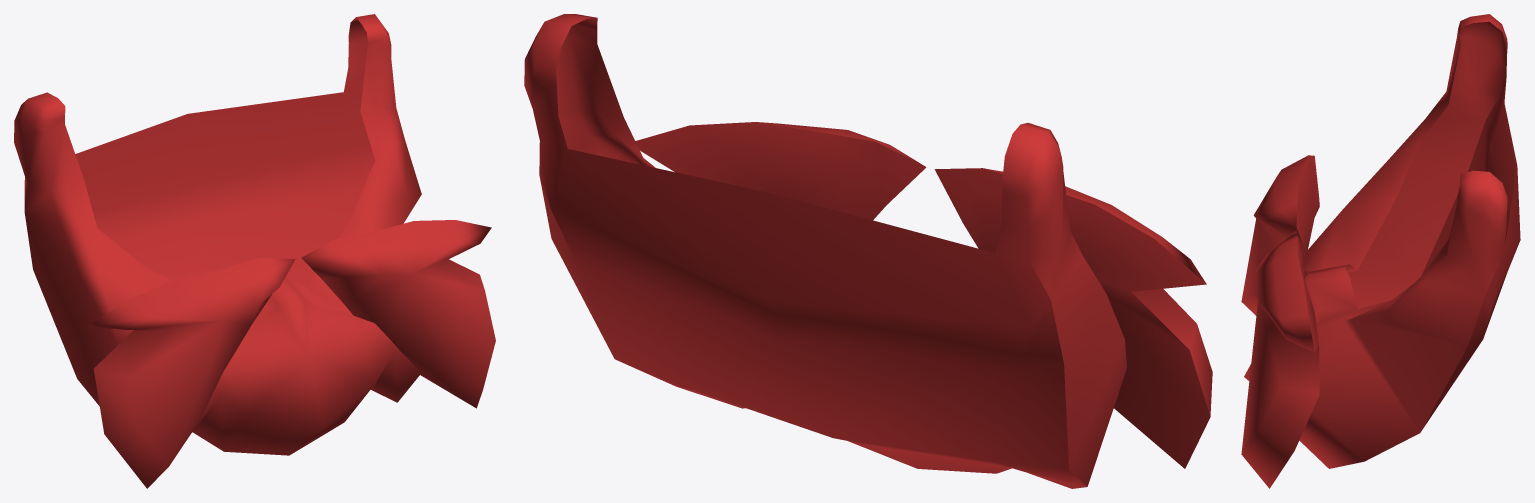
File: Beard_Red_15.fbx
3 renders of one model, left to right at view 1: azimuth 30°, elevation 25°; view 2: azimuth 150°, elevation 25°; view 3: azimuth 270°, elevation 25°, orthographic. The views are drawn at different scales.
Parts seen in each view (by area): view 1: Beard_Red_15; view 2: Beard_Red_15; view 3: Beard_Red_15.
Boxes of the visible parts, x1=… form: Beard_Red_15: x1=14, y1=14, x2=495, y2=488; Beard_Red_15: x1=524, y1=14, x2=1212, y2=488; Beard_Red_15: x1=1241, y1=14, x2=1520, y2=488.
Size of the model in its own units: 57.97 by 45.99 by 34.69.
